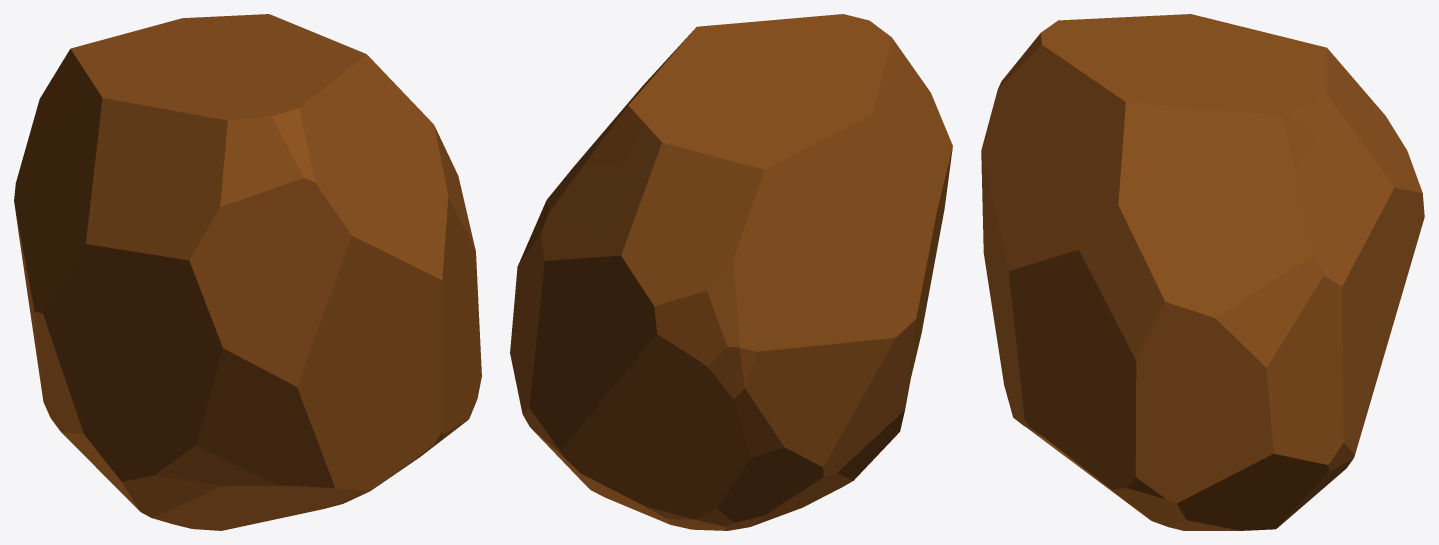
File: HardRock_44.fbx
The picture shows the model from 3 angles, left to right: view 1: azimuth 30°, elevation 25°; view 2: azimuth 150°, elevation 25°; view 3: azimuth 270°, elevation 25°; orthographic projection. The views are drawn at different scales.
Visible parts, largest first — view 1: HardRock_44; view 2: HardRock_44; view 3: HardRock_44.
Part boxes in pixels (bbox=[...]): HardRock_44: bbox=[14, 14, 481, 530]; HardRock_44: bbox=[510, 14, 952, 530]; HardRock_44: bbox=[981, 14, 1424, 530].
Size of the model in its own units: 71.13 by 81.53 by 74.38.
